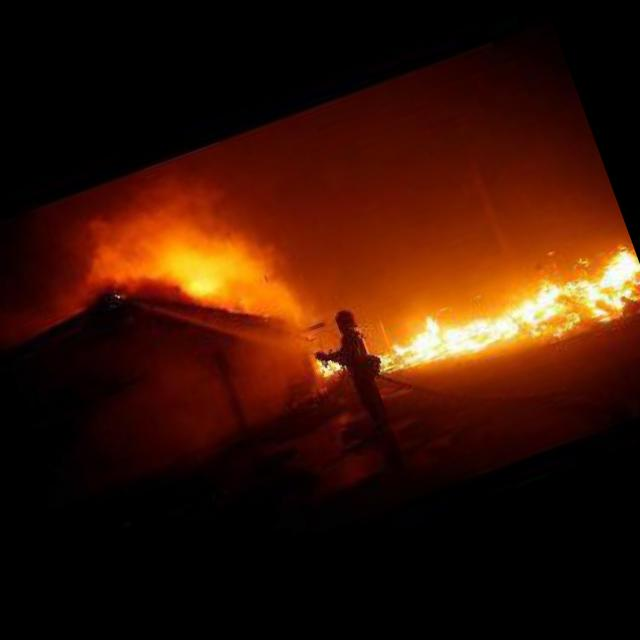fire: (371, 237, 640, 394), (320, 356, 340, 376)
